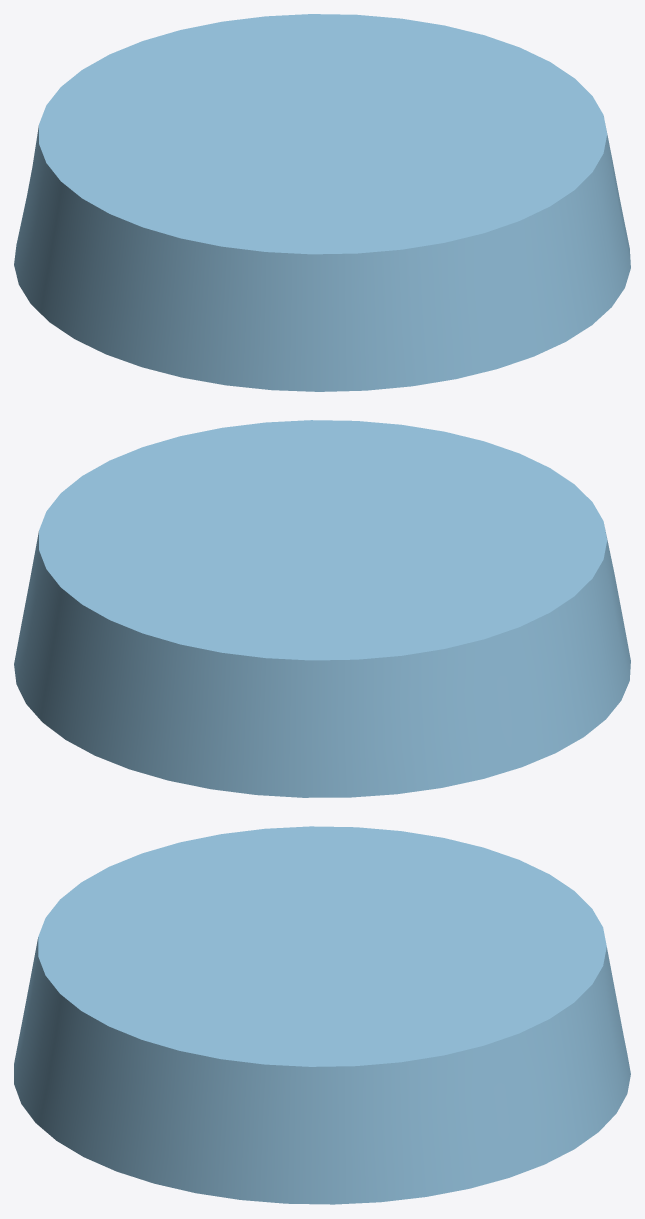
The model's file is 63_tapa_corcho.glb.
3 renders of one model, top to bottom at view 1: azimuth 30°, elevation 25°; view 2: azimuth 150°, elevation 25°; view 3: azimuth 270°, elevation 25°, orthographic.
Parts seen in each view (by area): view 1: Part 1; view 2: Part 1; view 3: Part 1.
Part boxes in pixels (<box>): Part 1: <box>14,14,630,391</box>; Part 1: <box>14,420,630,797</box>; Part 1: <box>14,826,630,1204</box>.
Bounding box in the file's own units: 0.0659 × 0.015 × 0.0658.
